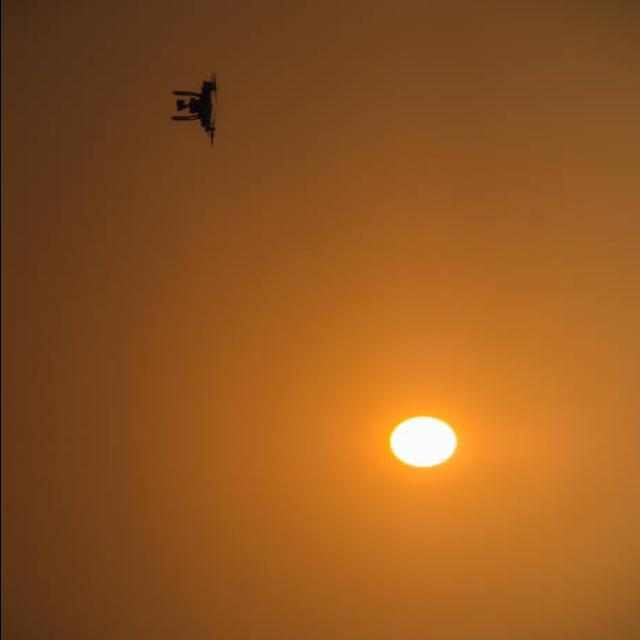drone: (170, 73, 219, 148)
